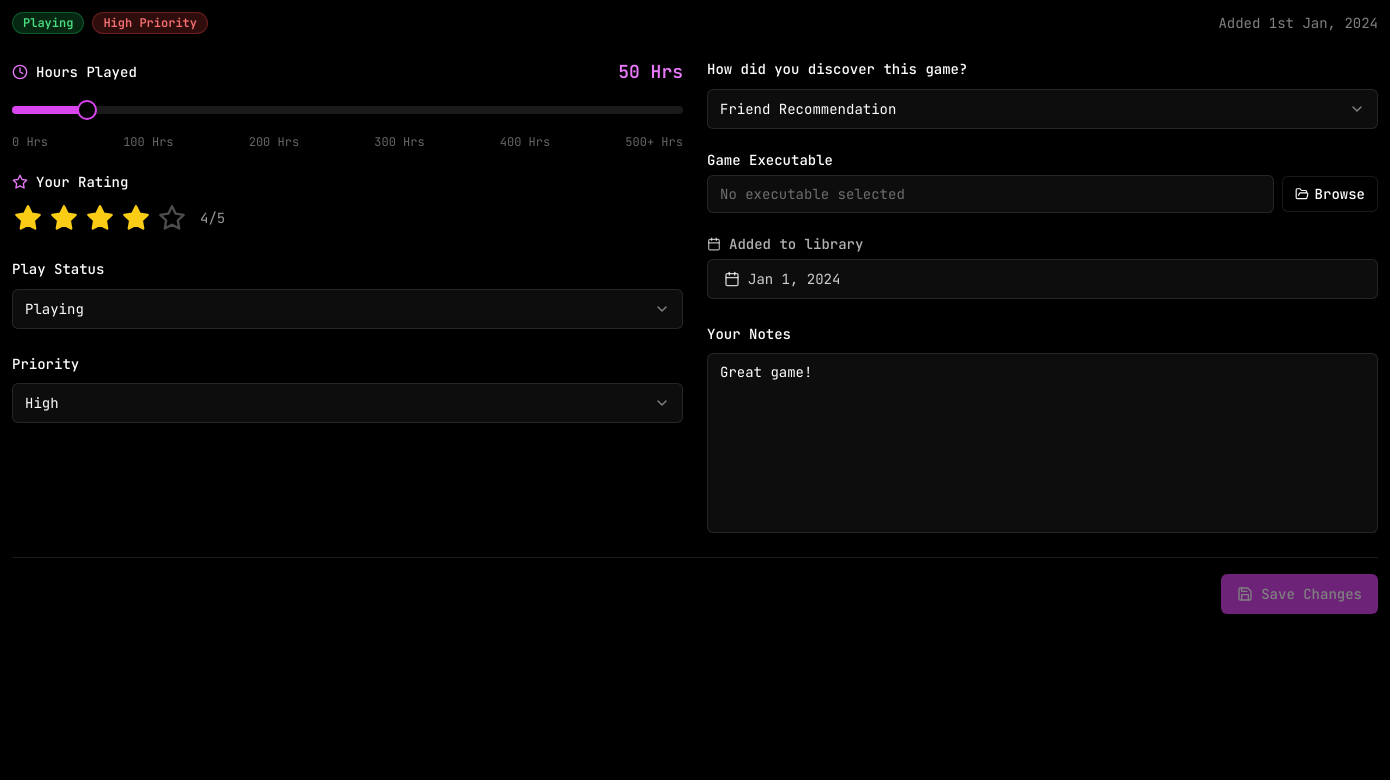
Test: MyProgressTab › shows the picker error when a non-.exe is chosen and keeps the field empty
The image size is (1390, 780).
Click the button "Browse". click: (1330, 194)
box: [1282,176,1378,212]
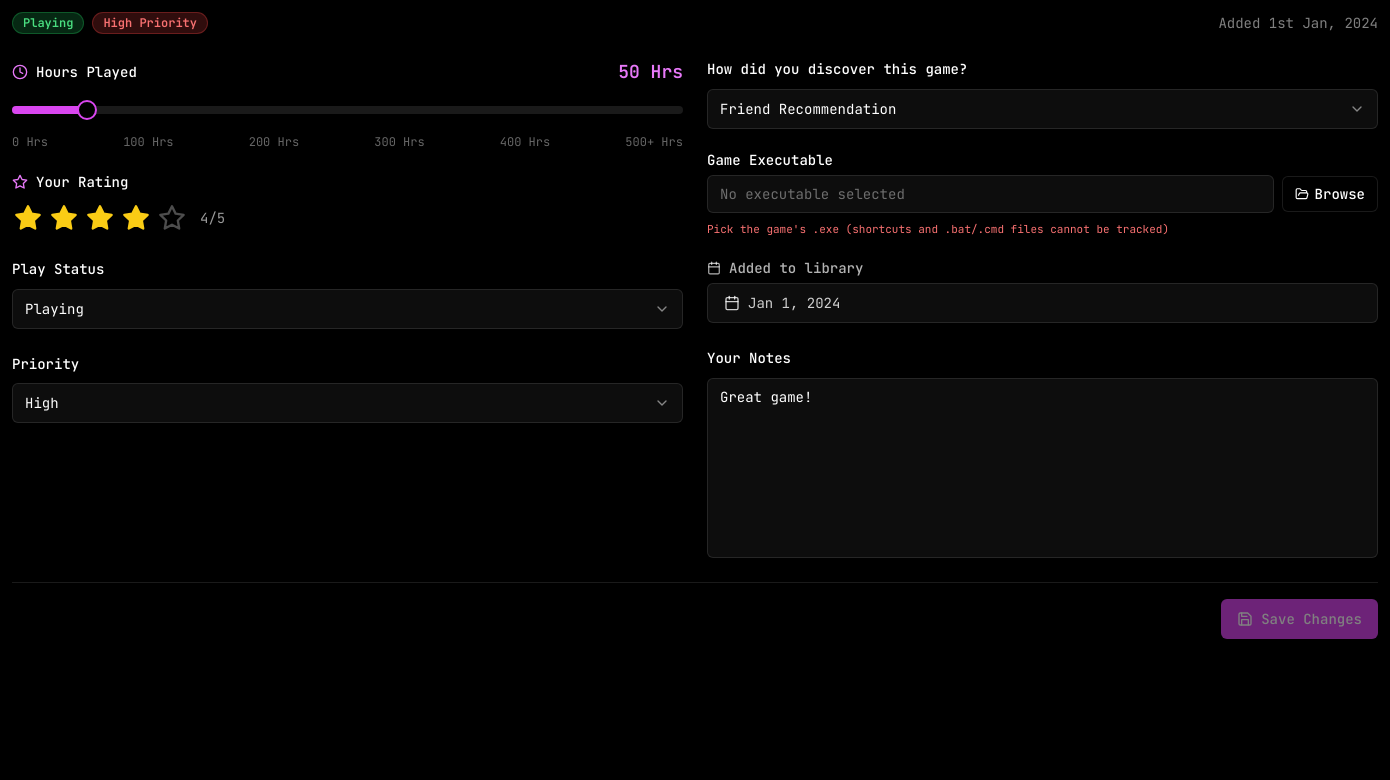
Expected: the text "No executable selected" is shown, [720,184,905,202]
Now the text "Pick the game's .exe (shortcuts and .bat/.cmd files cannot be tracked)" is shown, box [707,222,1169,236]
